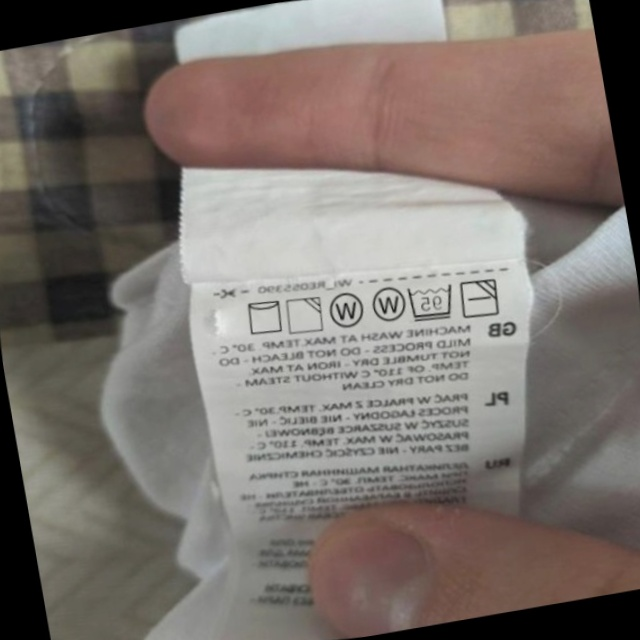95C: (402, 277, 459, 327)
dry_flat_in_shade: (455, 272, 505, 324)
line_dry: (240, 293, 288, 340)
shade_dry: (281, 291, 328, 339)
wet_clean: (323, 287, 369, 335), (365, 279, 410, 327)
